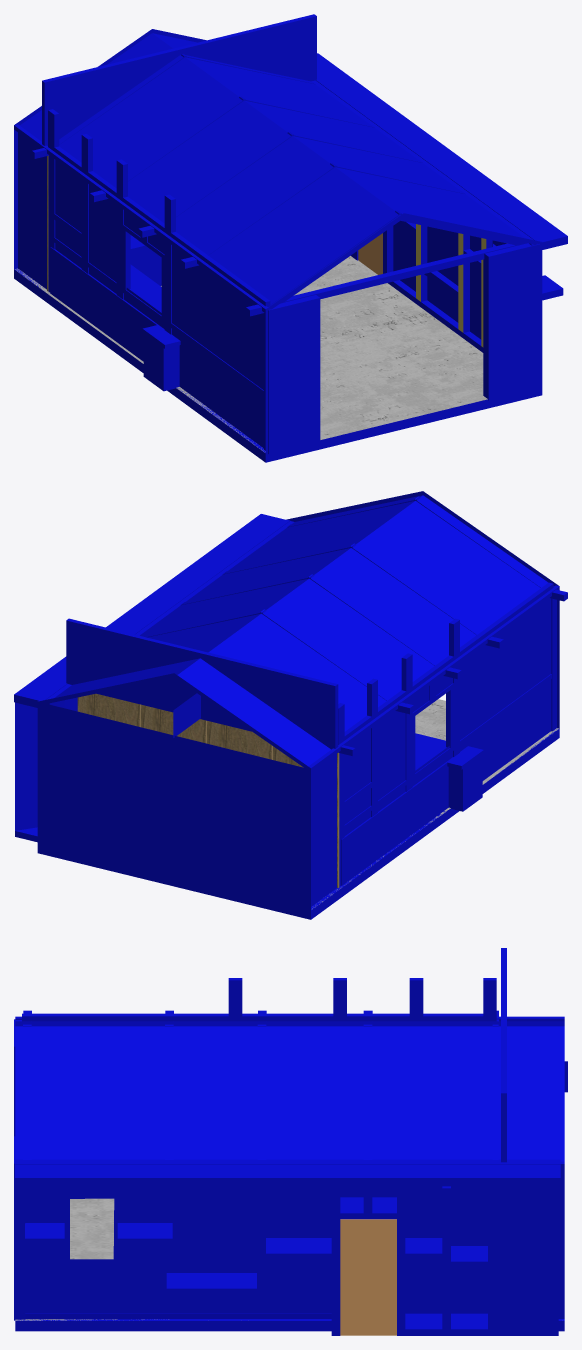
The model's file is Garage3.fbx.
3 renders of one model, top to bottom at view 1: azimuth 30°, elevation 25°; view 2: azimuth 150°, elevation 25°; view 3: azimuth 270°, elevation 25°, orthographic. The views are drawn at different scales.
Visible parts, largest first — view 1: Cube; view 2: Cube; view 3: Cube.
Boxes of the visible parts, left/top/right/bottom form: Cube: left=14, top=14, right=567, bottom=462; Cube: left=14, top=491, right=567, bottom=919; Cube: left=14, top=948, right=567, bottom=1335.
Size of the model in its own units: 11.89 by 7.81 by 16.57.
